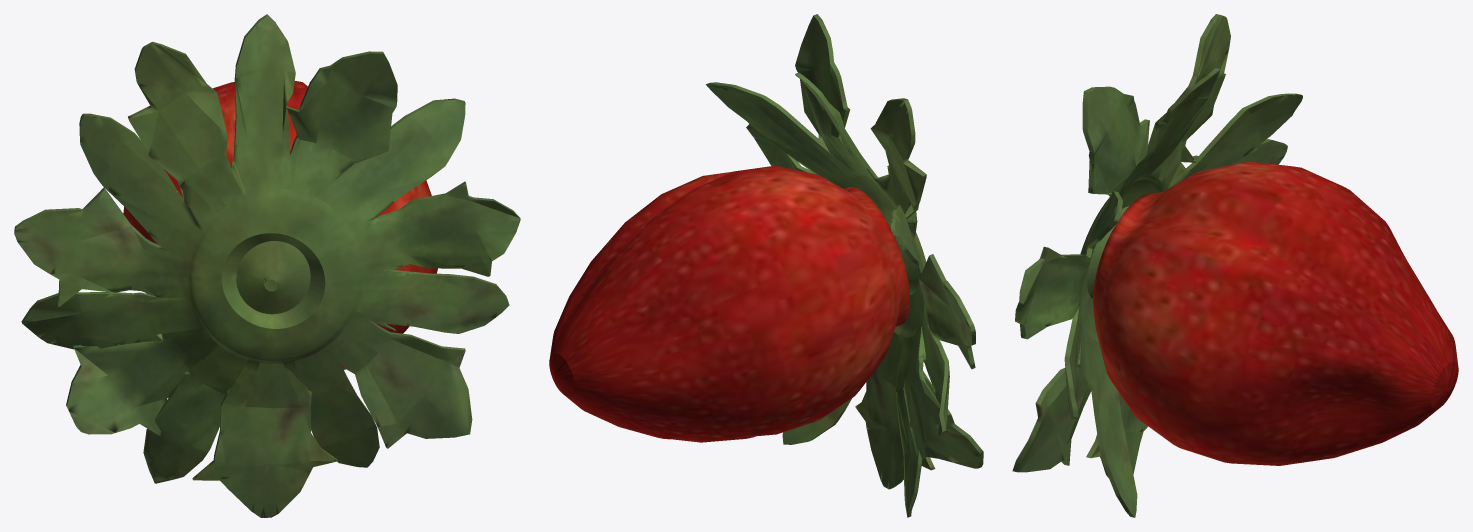
File: strawbarry.obj
3 renders of one model, left to right at view 1: azimuth 30°, elevation 25°; view 2: azimuth 150°, elevation 25°; view 3: azimuth 270°, elevation 25°, orthographic. The views are drawn at different scales.
Visible parts, largest first — view 1: Strawberry__Top02, Strawberry02; view 2: Strawberry02, Strawberry__Top02; view 3: Strawberry02, Strawberry__Top02.
Part boxes in pixels (<box>): Strawberry__Top02: <box>14,14,520,517</box>; Strawberry02: <box>123,81,437,369</box>; Strawberry02: <box>549,165,909,442</box>; Strawberry__Top02: <box>706,14,983,517</box>; Strawberry02: <box>1093,161,1458,465</box>; Strawberry__Top02: <box>1012,14,1302,517</box>.
Size of the model in its own units: 1.6 by 1.78 by 1.62.
